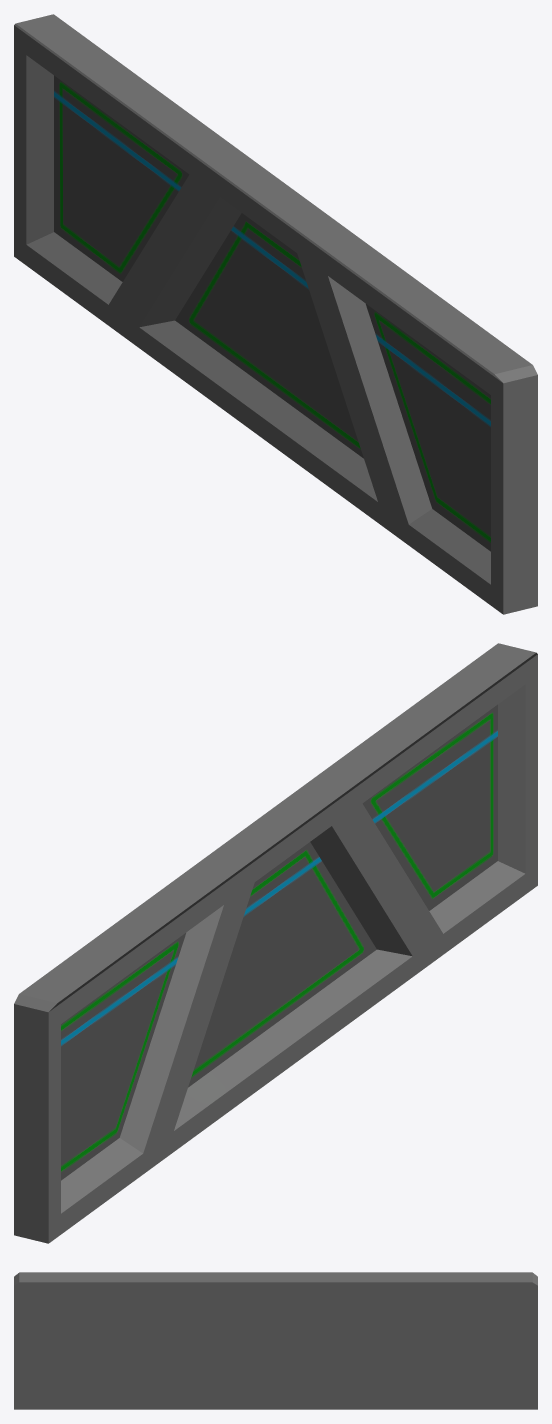
3 renders of one model, top to bottom at view 1: azimuth 30°, elevation 25°; view 2: azimuth 150°, elevation 25°; view 3: azimuth 270°, elevation 25°, orthographic. The views are drawn at different scales.
Parts seen in each view (by area): view 1: SM_B_Part9; view 2: SM_B_Part9; view 3: SM_B_Part9.
Part boxes in pixels (<box>): SM_B_Part9: <box>14,14,537,614</box>; SM_B_Part9: <box>14,643,537,1243</box>; SM_B_Part9: <box>14,1272,537,1409</box>.
Size of the model in its own units: 18.3 by 406 by 109.
